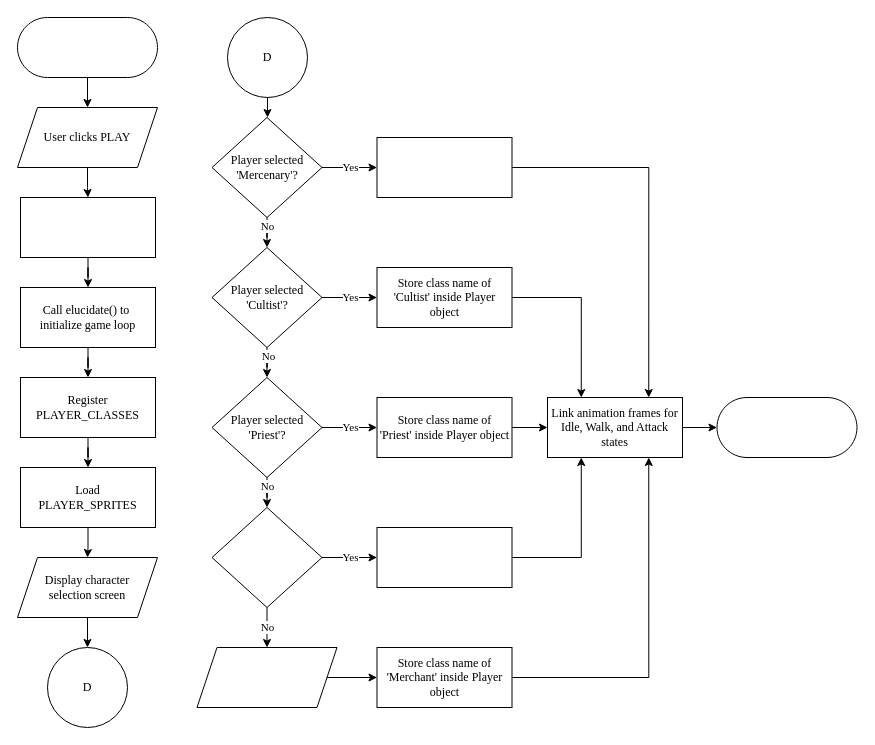
Some shapes in this 875 by 745 pixel diagram are drawn without their labels. The shapes that lost their labels are listed below. From the top down, each one's centre as x and y in pixels, then its label:
At point (87, 47): "Start: Dynamic Module Loading Algorithm".
At point (444, 167): "Store class name of 'Mercenary' inside Player object".
At point (88, 227): "Execute from main import *".
At point (786, 427): "End".
At point (266, 557): "Player selected 'Shaman'?".
At point (444, 557): "Store class name of 'Shaman' inside Player object".
At point (266, 677): "Player selects 'Merchant'".
